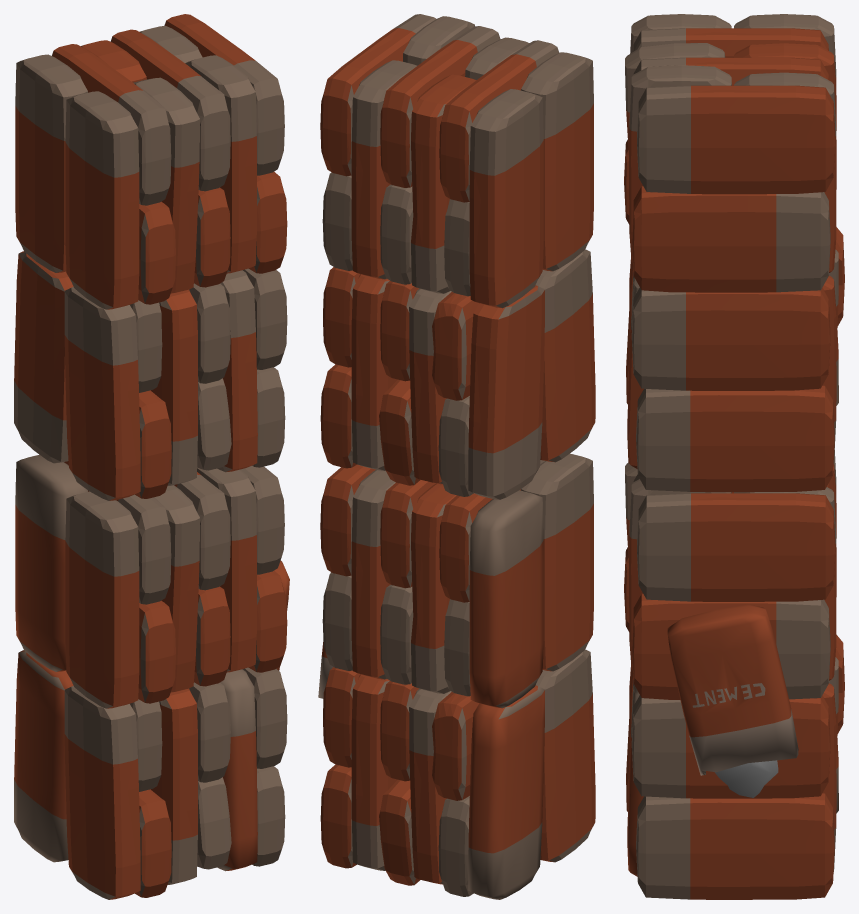
Rendered from CementBroke.fbx.
The picture shows the model from 3 angles, left to right: view 1: azimuth 30°, elevation 25°; view 2: azimuth 150°, elevation 25°; view 3: azimuth 270°, elevation 25°; orthographic projection. The views are drawn at different scales.
Visible parts, largest first — view 1: Cement_fracturepart3_4, Cement_fracturepart, Cement_fracturepart_2, Cement_fracturepart2_2, Cement_fracturepart7_4, Cement_fracturepart9_3, Cement_fracturepart5, Cement_fracturepart6_5, Cement_fracturepart7_12, Cement_fracturepart3_9, Cement_fracturepart3_3, Cement_fracturepart_3 (+55 smaller); view 2: Cement_fracturepart, Cement_fracturepart_2, Cement_fracturepart5, Cement_fracturepart2_2, Cement_fracturepart3_4, Cement_fracturepart2_3, Cement_fracturepart6_3, Cement_fracturepart3_3, Cement_fracturepart2_17, Cement_fracturepart1_2, Cement_fracturepart2_9, Cement_fracturepart2_11 (+58 smaller); view 3: Cement_fracturepart7_2, Cement_fracturepart1_2, Cement_fracturepart4_3, Cement_fracturepart_4, Cement_fracturepart10_6, Cement_fracturepart7_5, Cement_fracturepart8_2, Cement_fracturepart7, Cement_fracturepart7_6, Cement_fracturepart4, Cement_fracturepart9_2, Cement_fracturepart6_2 (+28 smaller).
Part boxes in pixels (bbox=[...]): Cement_fracturepart3_4: bbox=[64, 309, 140, 500]; Cement_fracturepart: bbox=[15, 454, 87, 671]; Cement_fracturepart_2: bbox=[14, 650, 73, 862]; Cement_fracturepart2_2: bbox=[64, 686, 133, 899]; Cement_fracturepart7_4: bbox=[77, 491, 139, 708]; Cement_fracturepart9_3: bbox=[65, 94, 139, 225]; Cement_fracturepart5: bbox=[15, 54, 87, 189]; Cement_fracturepart6_5: bbox=[65, 194, 139, 309]; Cement_fracturepart7_12: bbox=[151, 688, 197, 884]; Cement_fracturepart3_9: bbox=[151, 294, 197, 485]; Cement_fracturepart3_3: bbox=[14, 325, 68, 462]; Cement_fracturepart_3: bbox=[217, 669, 257, 871]; Cement_fracturepart: bbox=[469, 490, 543, 708]; Cement_fracturepart_2: bbox=[468, 685, 544, 899]; Cement_fracturepart5: bbox=[469, 89, 543, 258]; Cement_fracturepart2_2: bbox=[536, 651, 595, 862]; Cement_fracturepart3_4: bbox=[540, 249, 595, 462]; Cement_fracturepart2_3: bbox=[524, 481, 587, 671]; Cement_fracturepart6_3: bbox=[469, 285, 544, 407]; Cement_fracturepart3_3: bbox=[468, 323, 544, 475]; Cement_fracturepart2_17: bbox=[351, 679, 397, 870]; Cement_fracturepart1_2: bbox=[320, 14, 436, 175]; Cement_fracturepart2_9: bbox=[409, 688, 451, 884]; Cement_fracturepart2_11: bbox=[411, 535, 450, 693]; Cement_fracturepart7_2: bbox=[636, 793, 834, 899]; Cement_fracturepart1_2: bbox=[637, 85, 835, 194]; Cement_fracturepart4_3: bbox=[631, 287, 830, 390]; Cement_fracturepart_4: bbox=[667, 604, 798, 775]; Cement_fracturepart10_6: bbox=[636, 385, 827, 492]; Cement_fracturepart7_5: bbox=[631, 695, 830, 798]; Cement_fracturepart8_2: bbox=[707, 493, 835, 601]; Cement_fracturepart7: bbox=[632, 593, 830, 699]; Cement_fracturepart7_6: bbox=[637, 508, 800, 601]; Cement_fracturepart4: bbox=[632, 231, 821, 292]; Cement_fracturepart9_2: bbox=[633, 186, 829, 234]; Cement_fracturepart6_2: bbox=[632, 217, 830, 288].
Bounding box in the file's own units: 82.4 × 309 × 75.74.
Materials: 1 (1 with a texture image).
